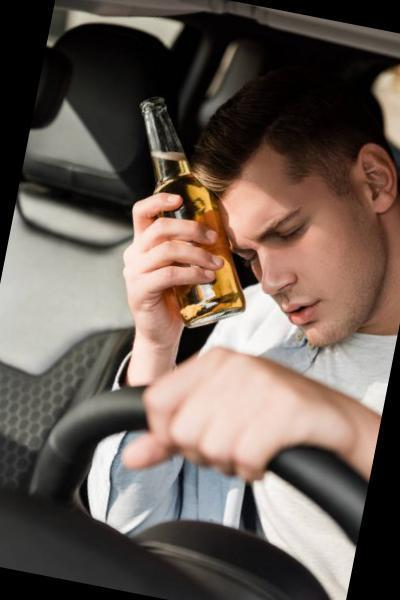Drunk: (217, 180, 370, 344)
